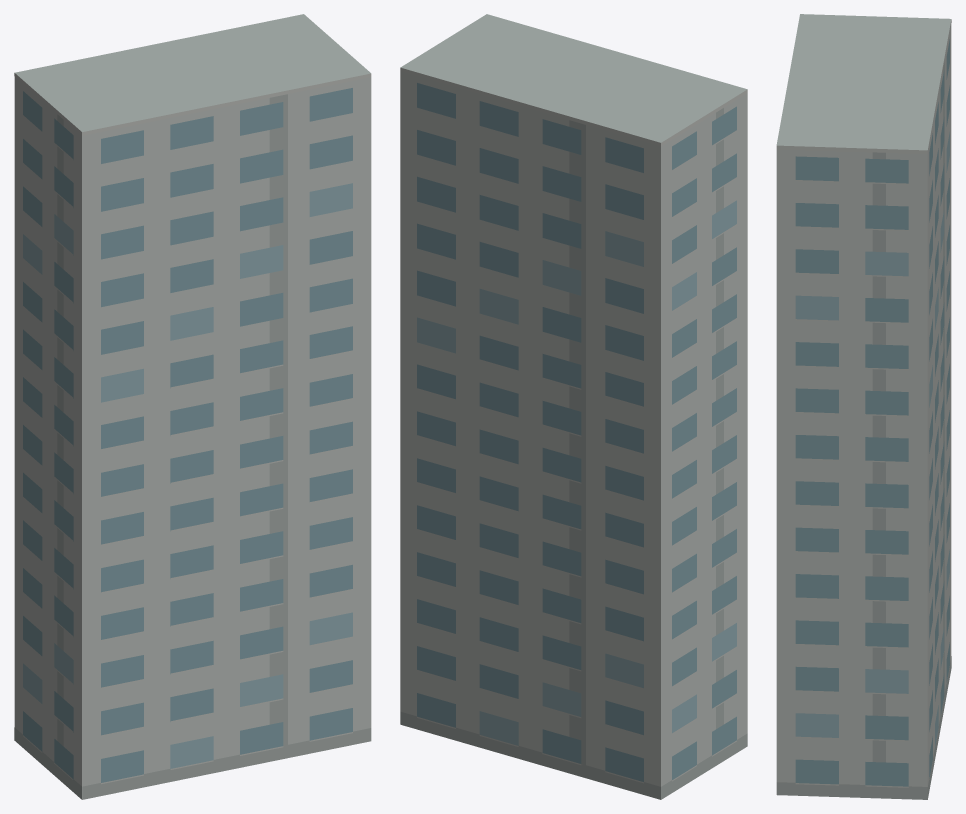
Rendered from residential-95c850ec-e308-4876-97b0-a3c6e2d1f9b3.glb.
3 renders of one model, left to right at view 1: azimuth 30°, elevation 25°; view 2: azimuth 150°, elevation 25°; view 3: azimuth 270°, elevation 25°, orthographic. The views are drawn at different scales.
Visible parts, largest first — view 1: residential-95c850ec-e308-4876-97b0-a3c6e2d1f9b3.tmp; view 2: residential-95c850ec-e308-4876-97b0-a3c6e2d1f9b3.tmp; view 3: residential-95c850ec-e308-4876-97b0-a3c6e2d1f9b3.tmp.
Boxes of the visible parts, bbox=[...] form: residential-95c850ec-e308-4876-97b0-a3c6e2d1f9b3.tmp: bbox=[14, 14, 371, 799]; residential-95c850ec-e308-4876-97b0-a3c6e2d1f9b3.tmp: bbox=[400, 14, 747, 799]; residential-95c850ec-e308-4876-97b0-a3c6e2d1f9b3.tmp: bbox=[776, 14, 951, 799].
Size of the model in its own units: 19.38 by 43 by 10.51.
